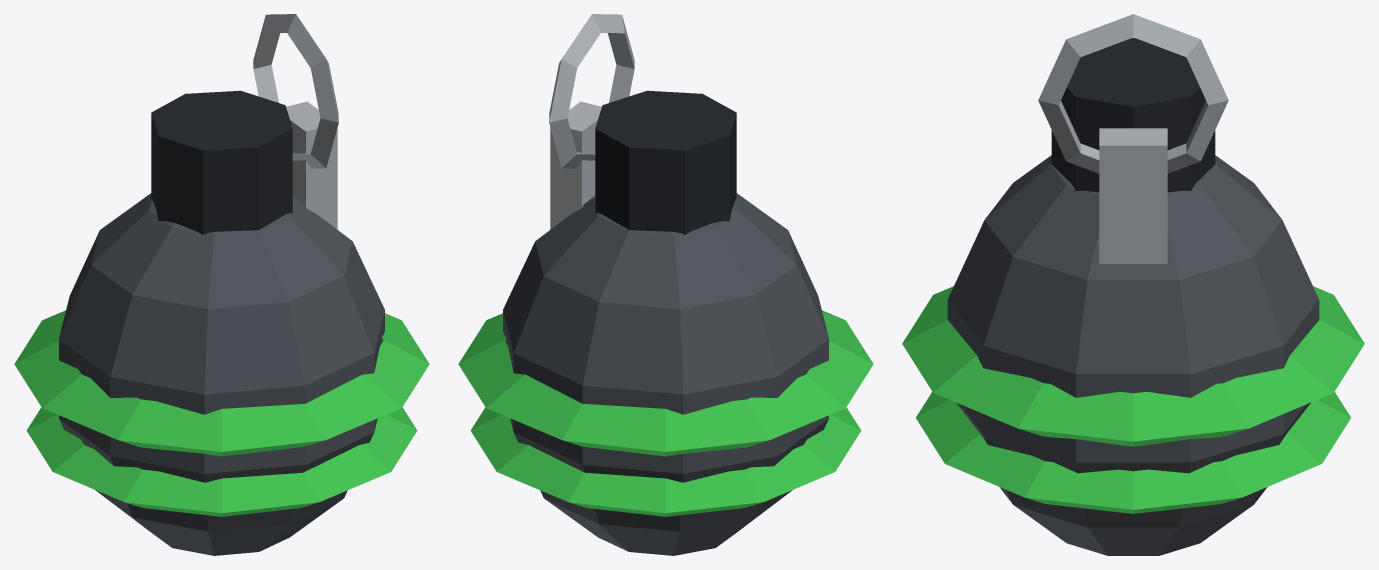
The model's file is grenade-corrosive.glb.
3 views of the same model, side by side, from view 1: azimuth 30°, elevation 25°; view 2: azimuth 150°, elevation 25°; view 3: azimuth 270°, elevation 25° (orthographic). The views are drawn at different scales.
Visible parts, largest first — view 1: m; view 2: m; view 3: m.
Part boxes in pixels (left/top/right/bottom): m: left=14, top=14, right=429, bottom=555; m: left=458, top=14, right=873, bottom=555; m: left=902, top=14, right=1364, bottom=555.
Size of the model in its own units: 0.059 by 0.08 by 0.059.
